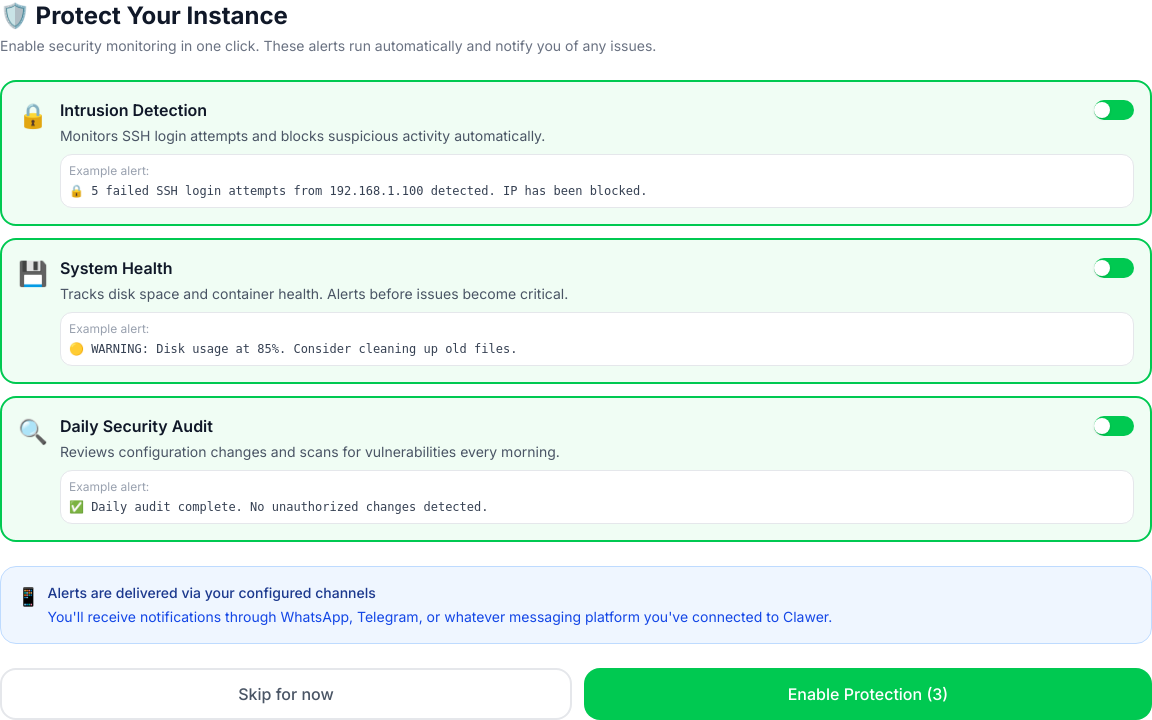
Test: SecuritySetup › should disable toggles after successful setup
The image size is (1152, 720).
Click the button "Enable Protection (3)" at (868, 694), box [584,668,1151,719]
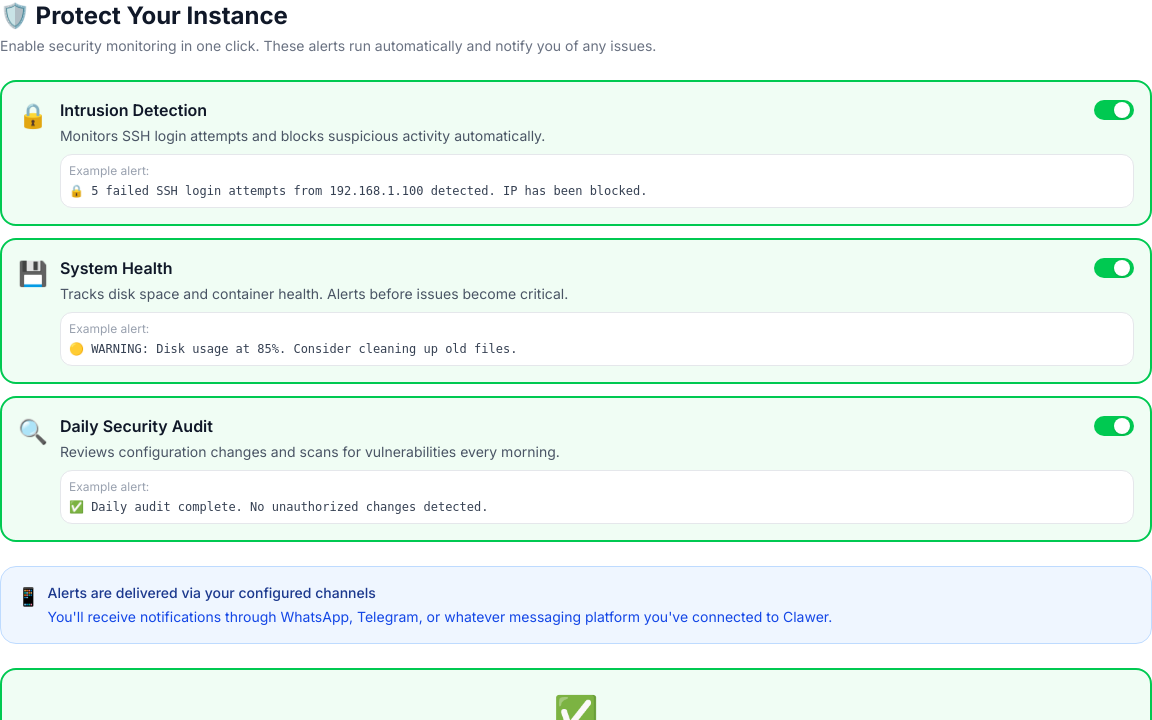
expect the button "Intrusion Detection" is disabled: met, box [0,80,1151,226]
